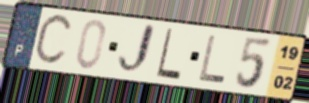0: (74, 18, 108, 71)
5: (234, 36, 276, 91)
C: (31, 11, 76, 69)
J: (115, 21, 158, 78)
L: (154, 26, 184, 82), (197, 33, 228, 85)
